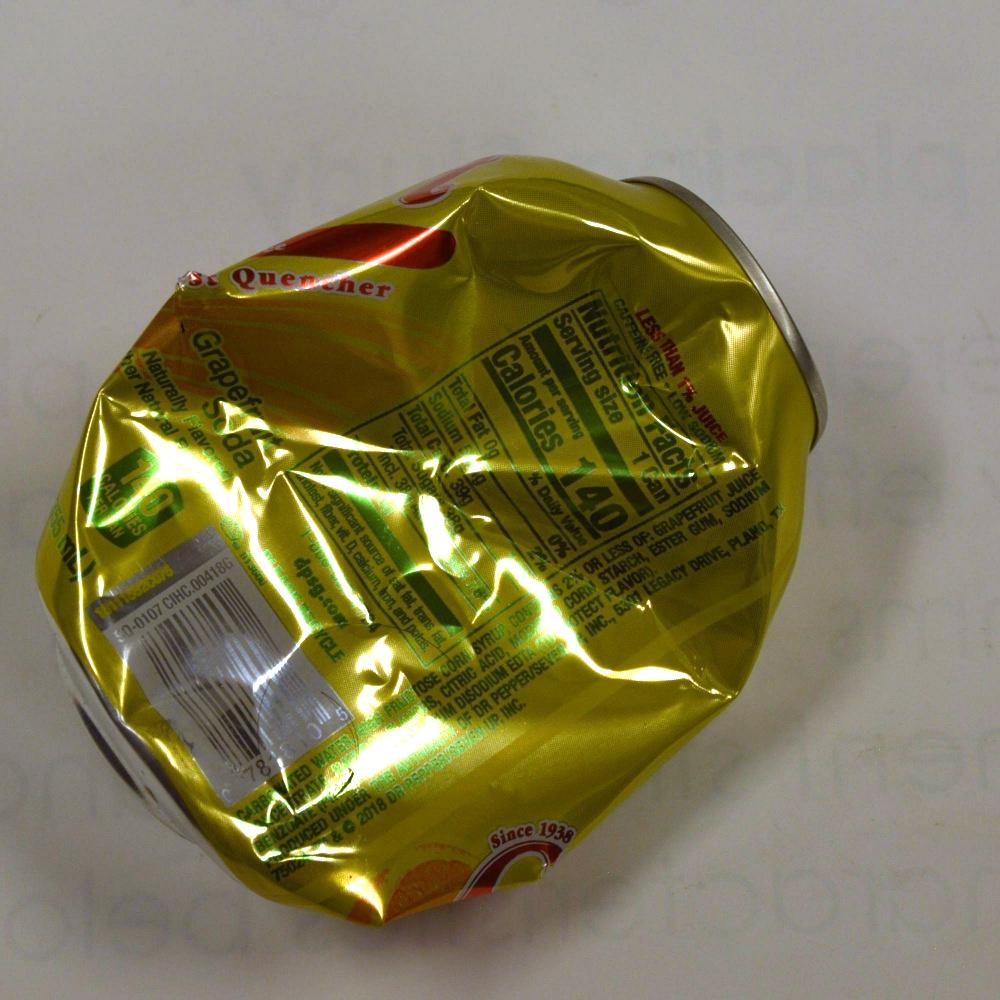Metal: (18, 122, 806, 960)
